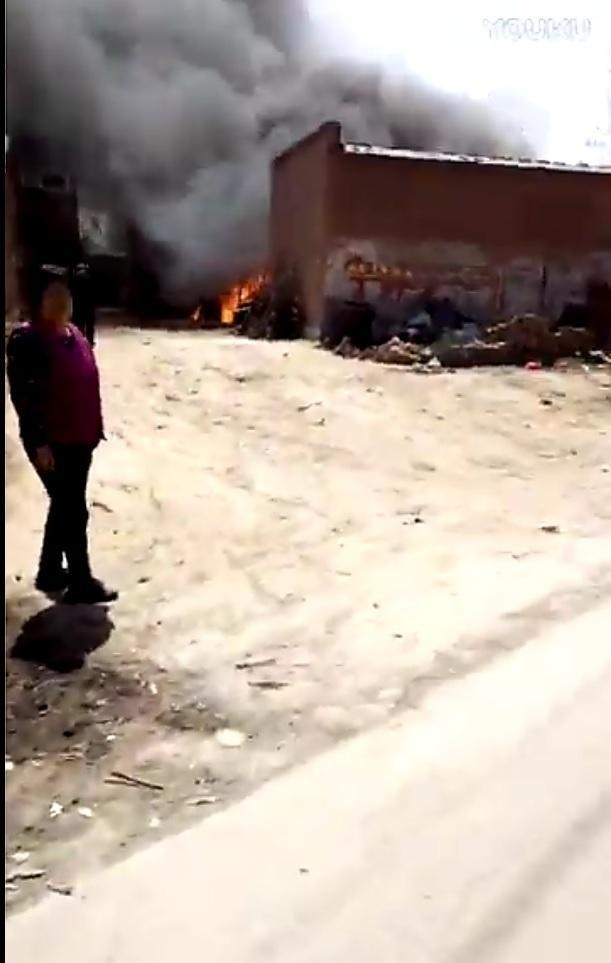fire: (212, 272, 265, 325)
